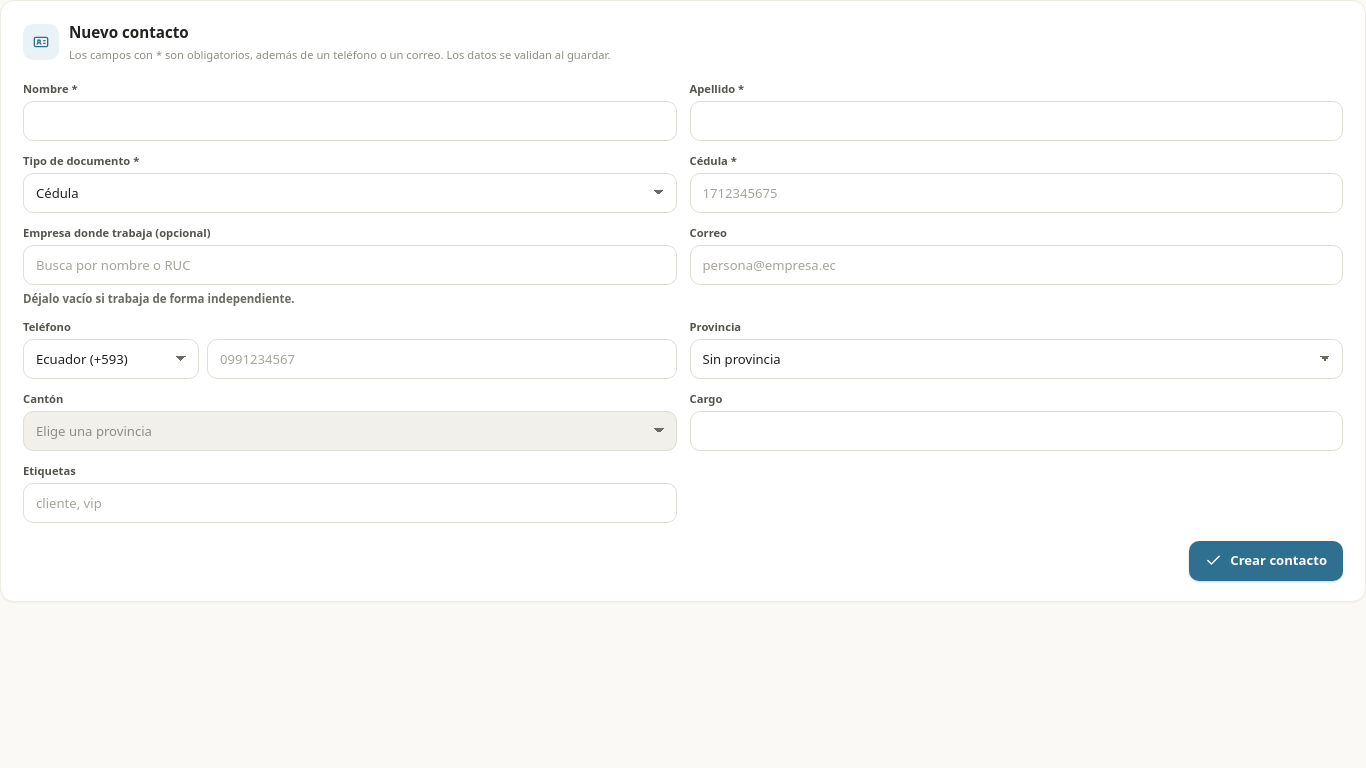
Test case: al guardar marca cada error en su campo, enfoca el primero y lo borra al editarlo
Click the button "Crear contacto".
click(1266, 561)  # box [1189,541,1343,581]
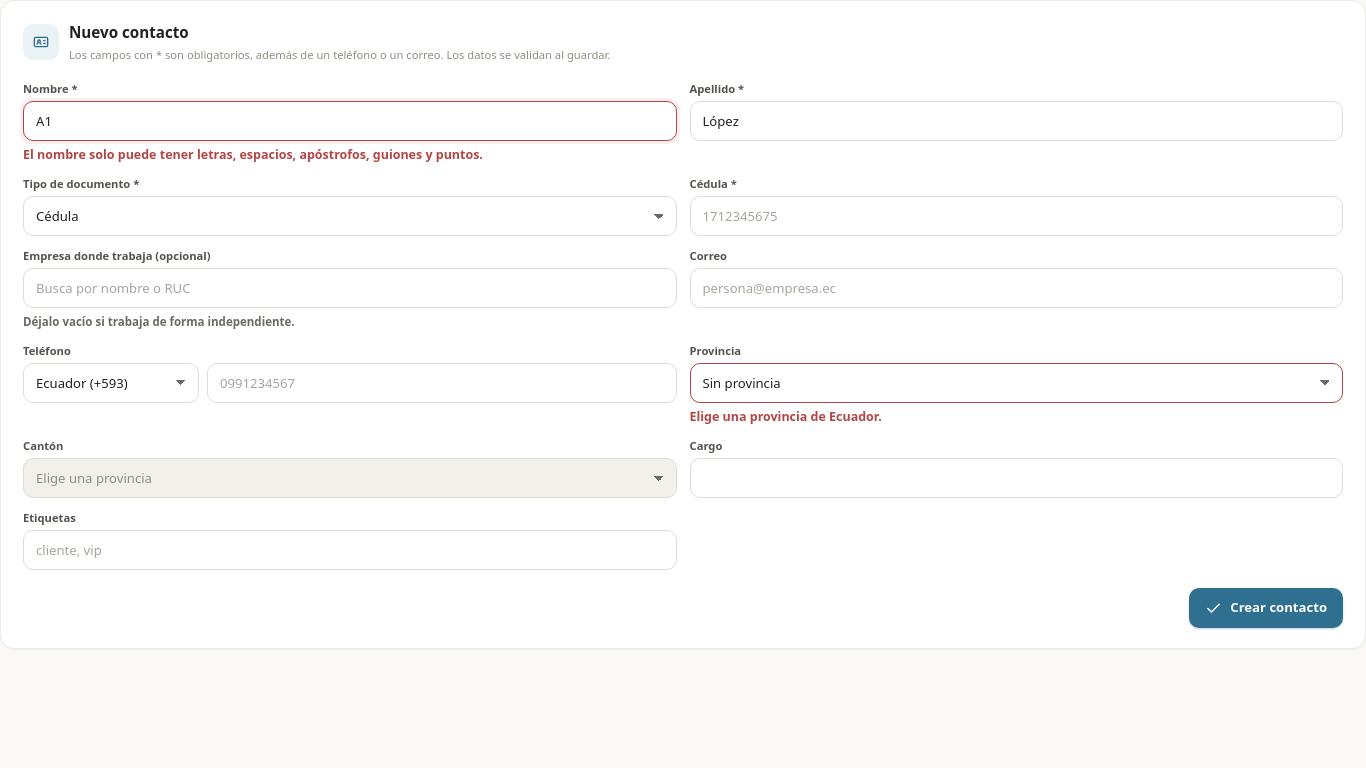
Expected: the text "Elige una provincia de Ecuador." is shown, [690,408,882,425]
Type "x" into the field labelled "Nombre".
click(350, 121); type("x")  # box [23,101,676,141]
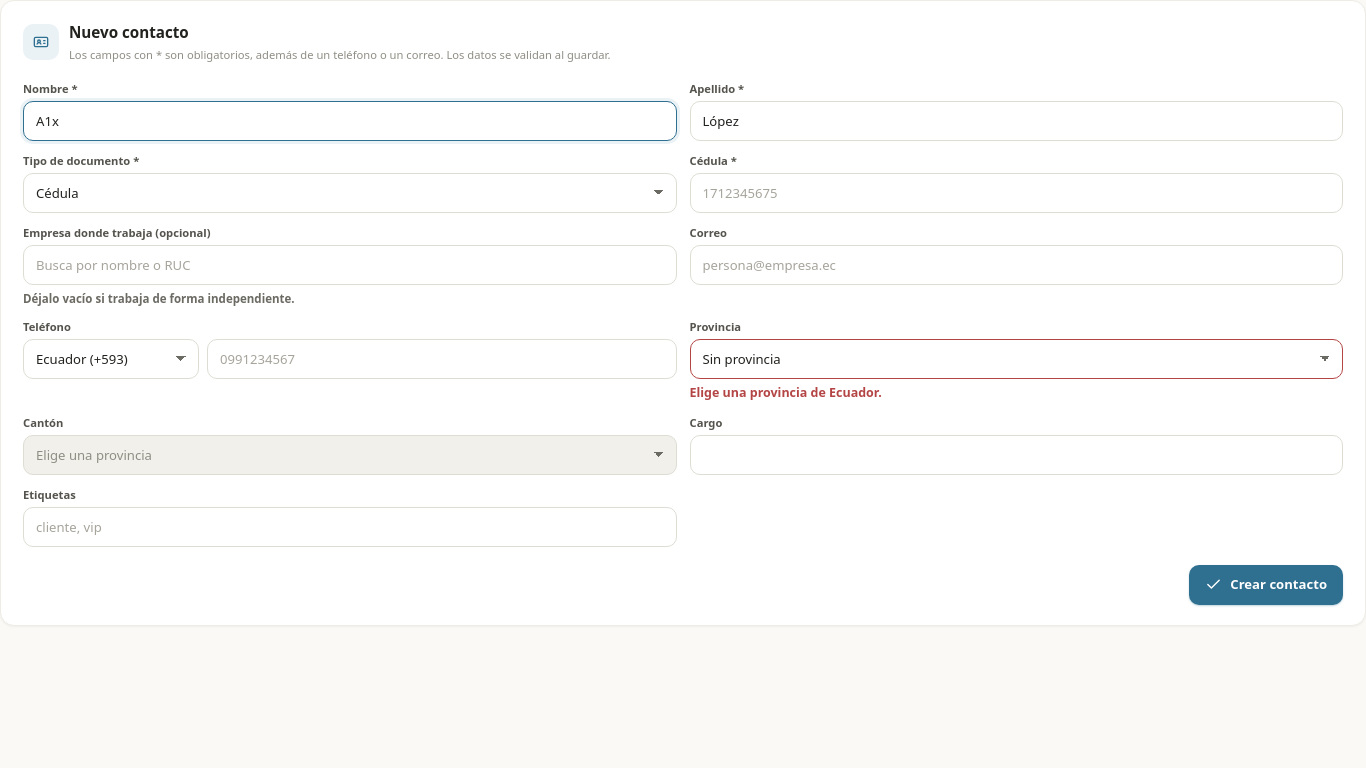
Expected: the text "Elige una provincia de Ecuador." is shown, [690,384,882,401]
Expected: the text "solo puede tener letras" is gone
